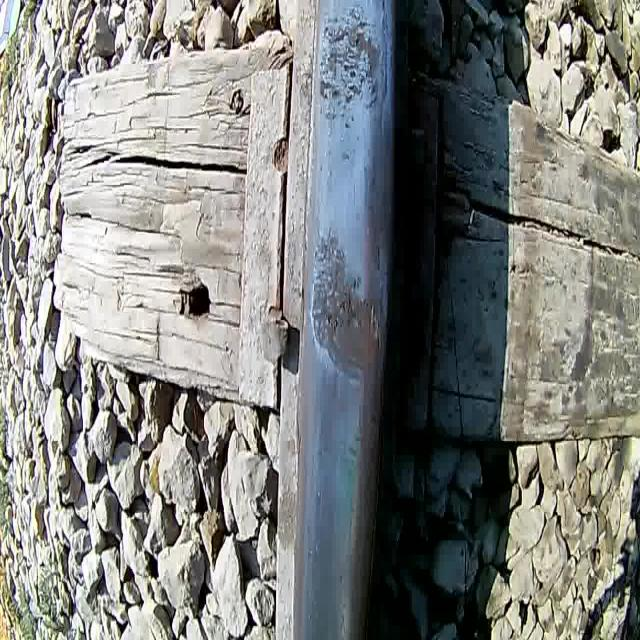Cracks: (367, 234, 384, 364), (379, 0, 391, 116)
Spallings: (322, 272, 364, 346)
Squats: (307, 219, 387, 395), (314, 0, 382, 134)
